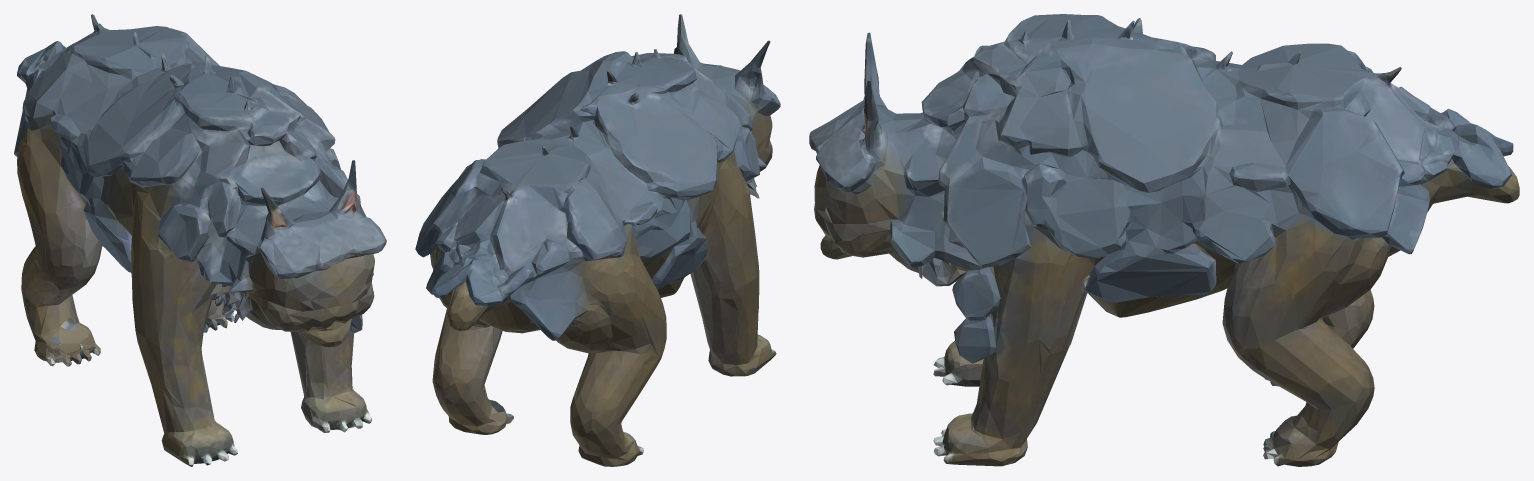
The model's file is creature-019.lod.glb.
The picture shows the model from 3 angles, left to right: view 1: azimuth 30°, elevation 25°; view 2: azimuth 150°, elevation 25°; view 3: azimuth 270°, elevation 25°; orthographic projection. The views are drawn at different scales.
Parts seen in each view (by area): view 1: tmpjtm4dc_6.ply; view 2: tmpjtm4dc_6.ply; view 3: tmpjtm4dc_6.ply.
Boxes of the visible parts, x1=… form: tmpjtm4dc_6.ply: x1=14, y1=14, x2=386, y2=466; tmpjtm4dc_6.ply: x1=415, y1=14, x2=780, y2=466; tmpjtm4dc_6.ply: x1=809, y1=14, x2=1519, y2=466.
Size of the model in its own units: 0.877 by 1.24 by 1.99.
Materials: 1 (1 with a texture image).
